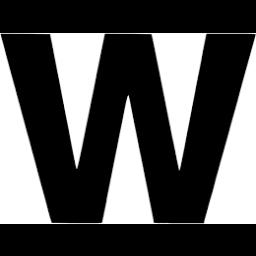w: (0, 33, 254, 223)
